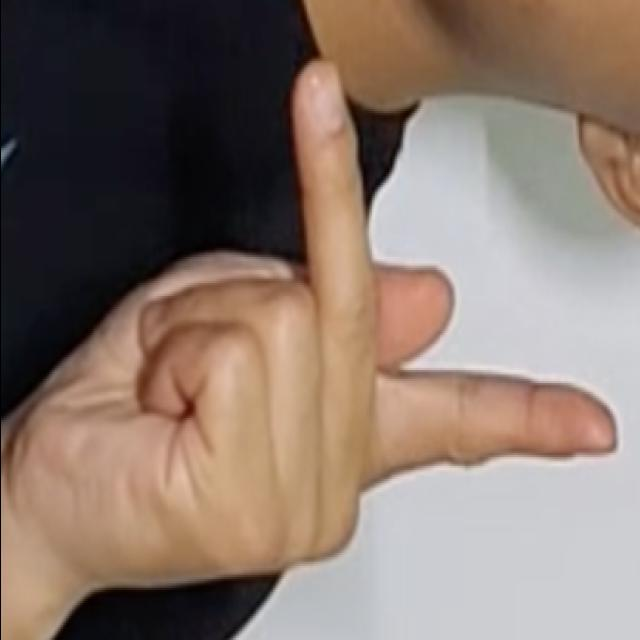P: (0, 53, 623, 607)
